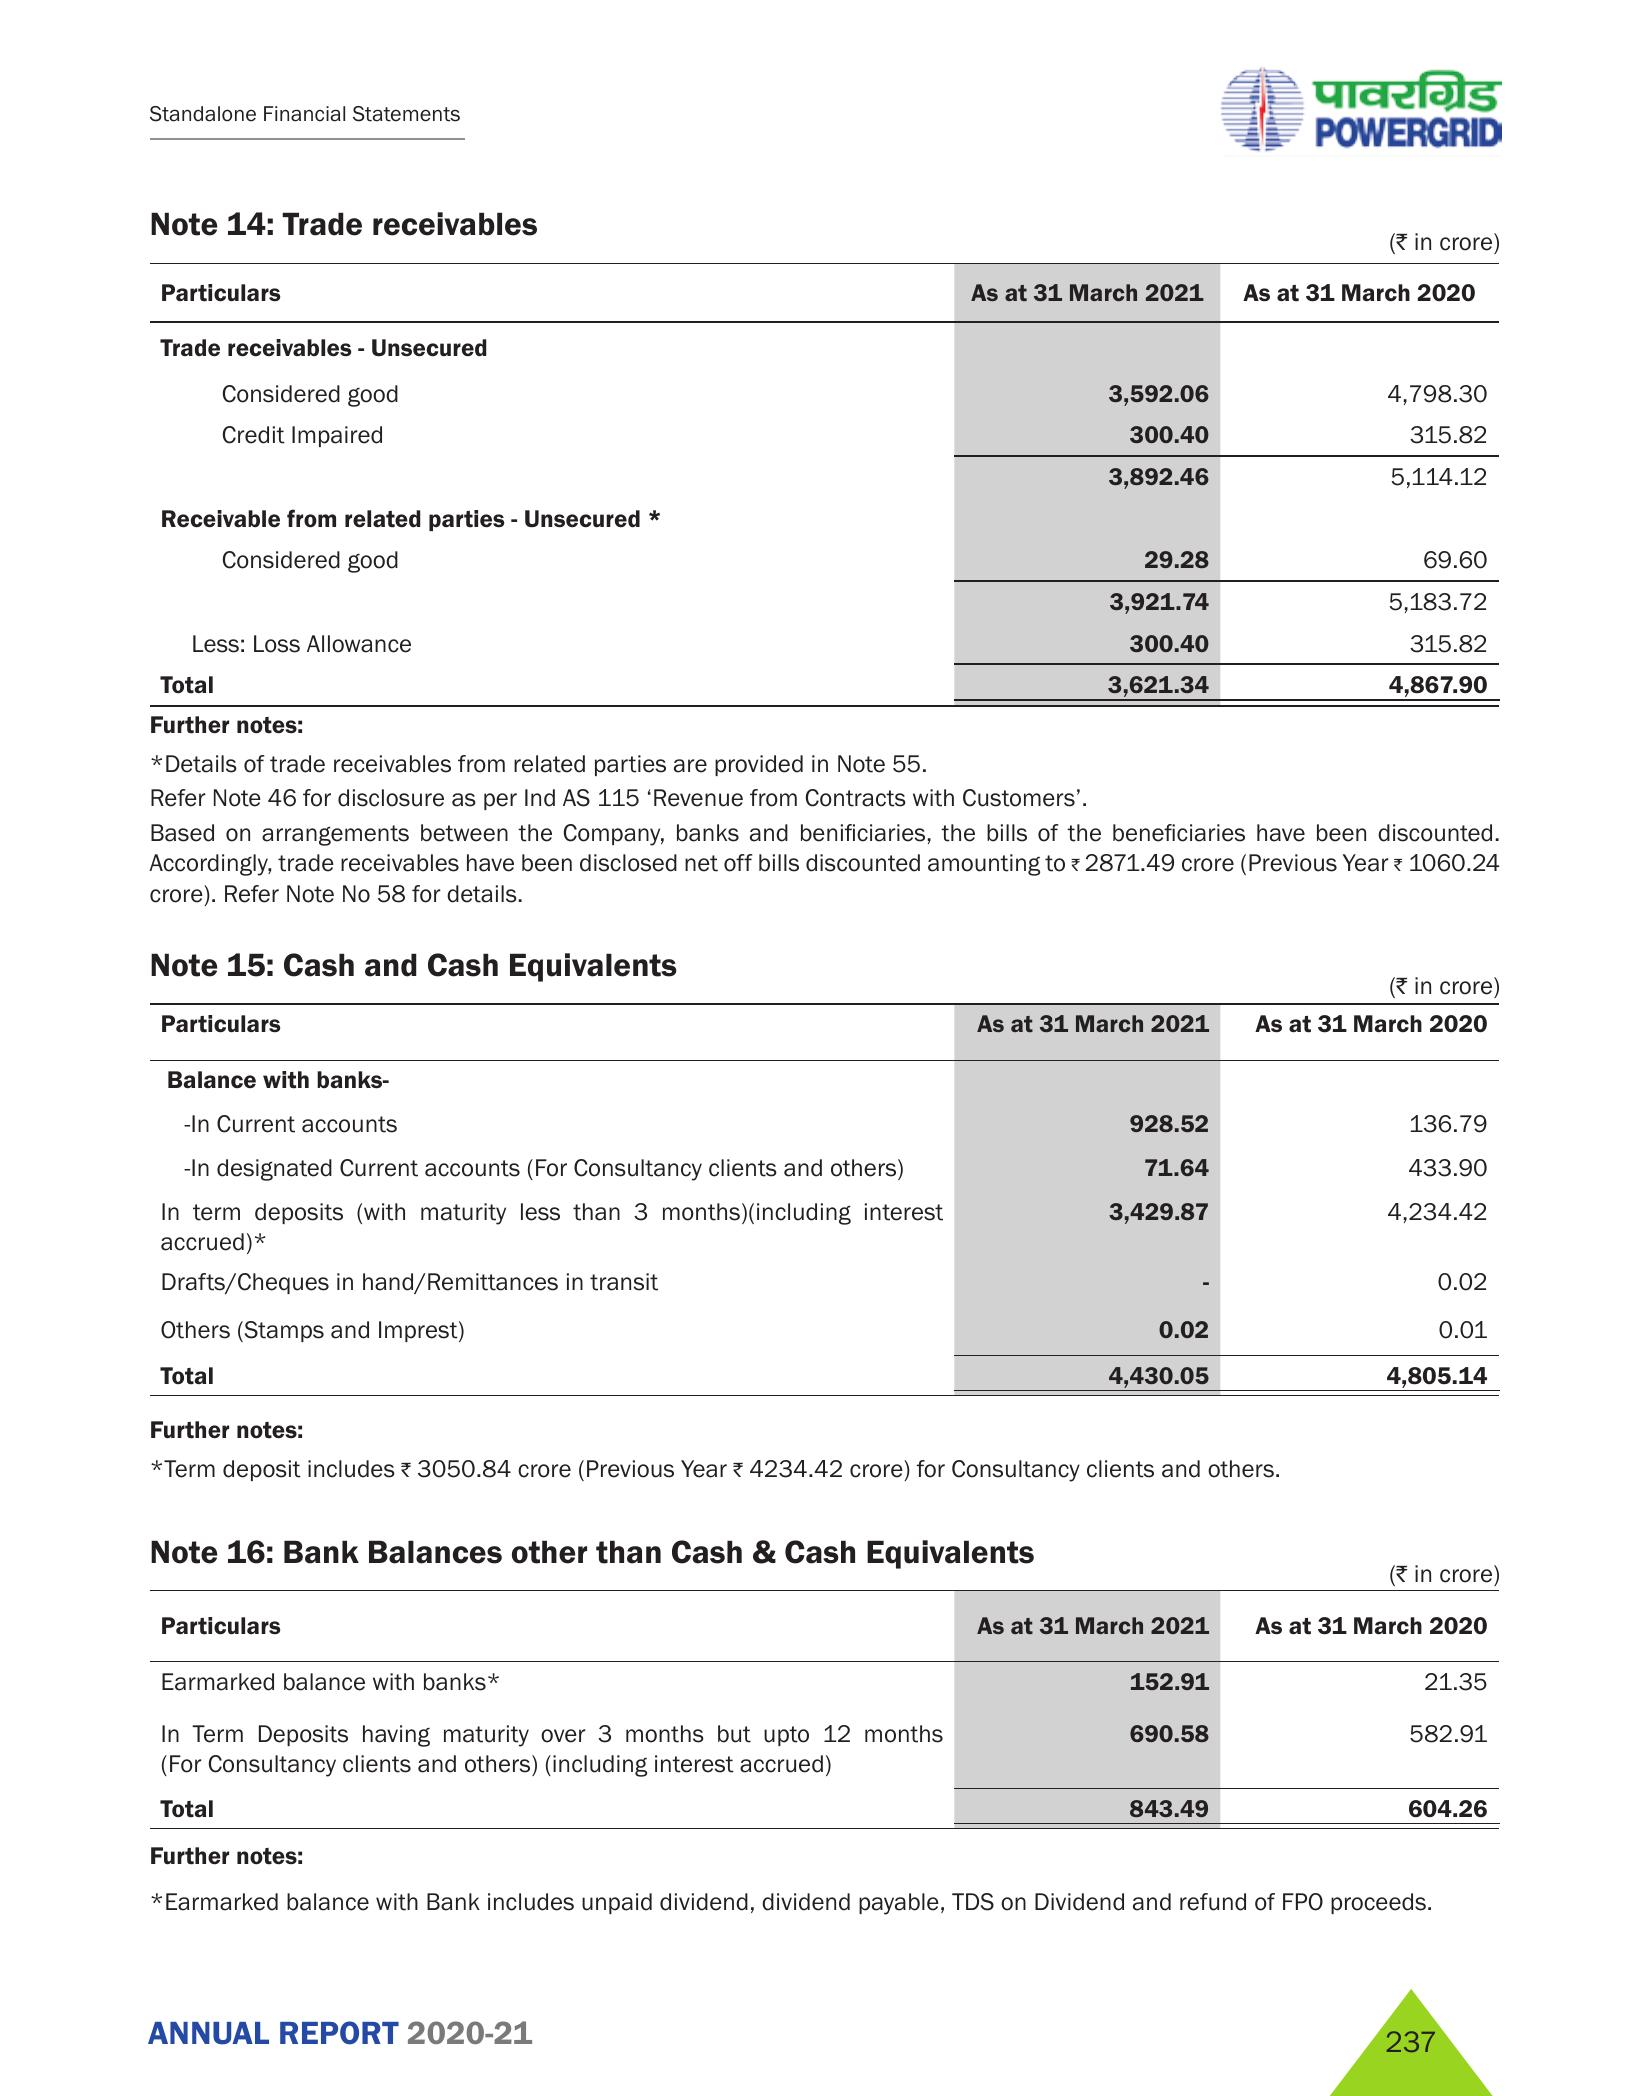Footer: (0, 1962, 1650, 2096)
Header: (0, 0, 1650, 168)
Table: (134, 260, 1528, 703), (126, 997, 1524, 1410), (129, 1589, 1507, 1836)
